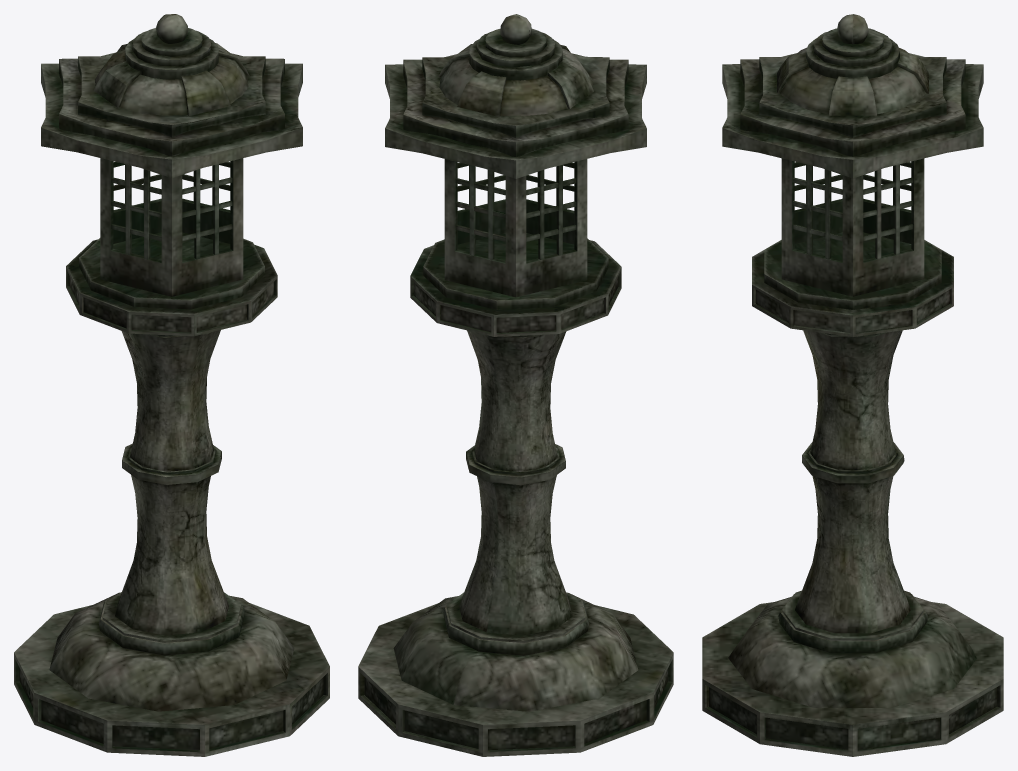
File: lamp-stone.glb
3 renders of one model, left to right at view 1: azimuth 30°, elevation 25°; view 2: azimuth 150°, elevation 25°; view 3: azimuth 270°, elevation 25°, orthographic.
Visible parts, largest first — view 1: lamp-stone; view 2: lamp-stone; view 3: lamp-stone.
Boxes of the visible parts, left/top/right/bottom form: lamp-stone: left=14, top=14, right=329, bottom=756; lamp-stone: left=358, top=14, right=673, bottom=756; lamp-stone: left=702, top=14, right=1003, bottom=756.
Bounding box in the file's own units: 0.7236 × 1.7 × 0.6882.
1 material, 1 textured.
